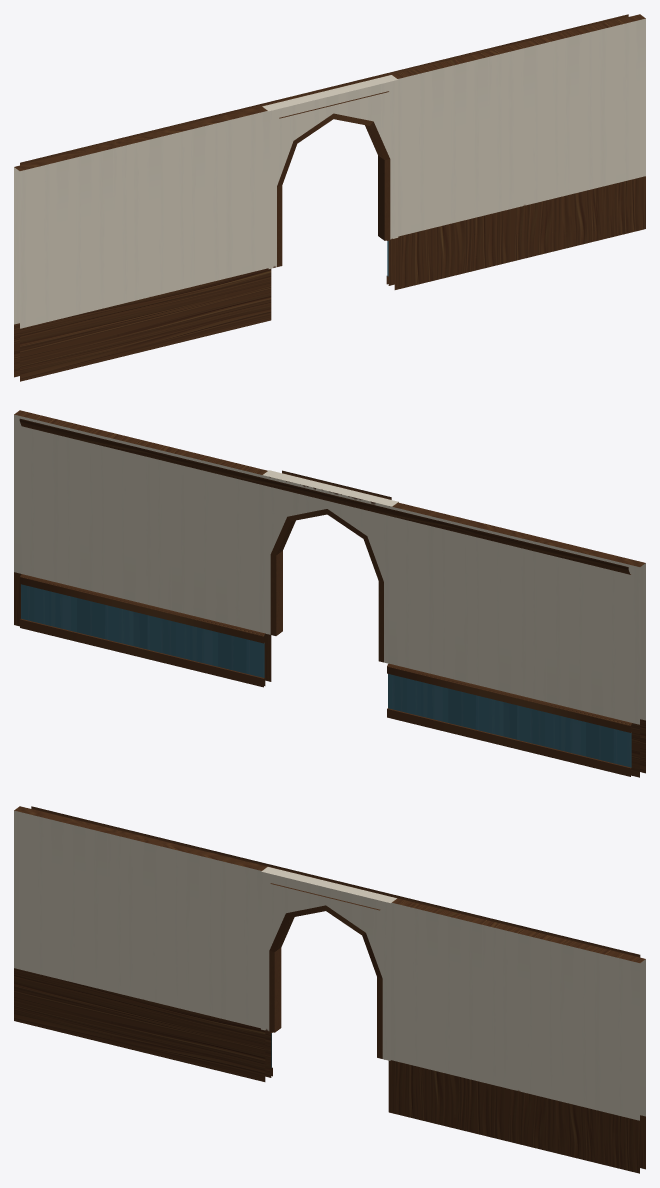
The model's file is KitchenWall_Entrance 1.fbx.
The picture shows the model from 3 angles, top to bottom: view 1: azimuth 30°, elevation 25°; view 2: azimuth 150°, elevation 25°; view 3: azimuth 330°, elevation 25°; orthographic projection.
Parts seen in each view (by area): view 1: Midnight_Antics_House_Build_V1.012; view 2: Midnight_Antics_House_Build_V1.012; view 3: Midnight_Antics_House_Build_V1.012.
Part boxes in pixels (left/top/right/bottom): Midnight_Antics_House_Build_V1.012: left=14, top=14, right=645, bottom=381; Midnight_Antics_House_Build_V1.012: left=14, top=410, right=645, bottom=777; Midnight_Antics_House_Build_V1.012: left=14, top=806, right=645, bottom=1173.
Bounding box in the file's own units: 124540 × 40020 × 4251.
